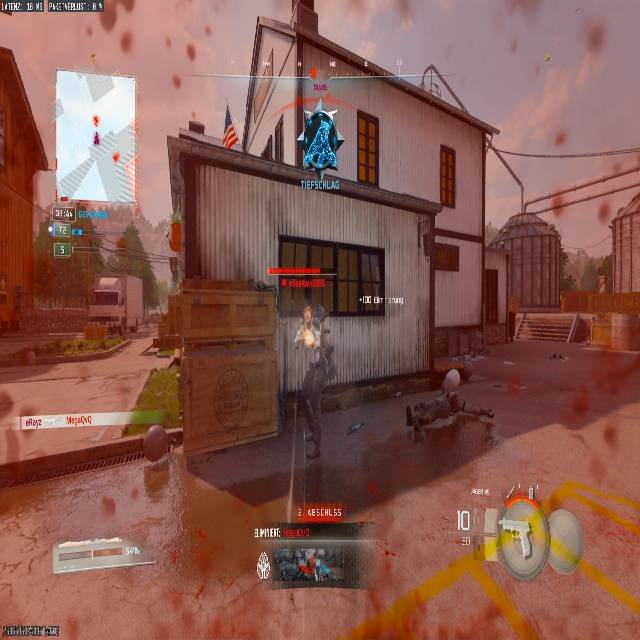player: (299, 110, 344, 176), (255, 549, 272, 582)
